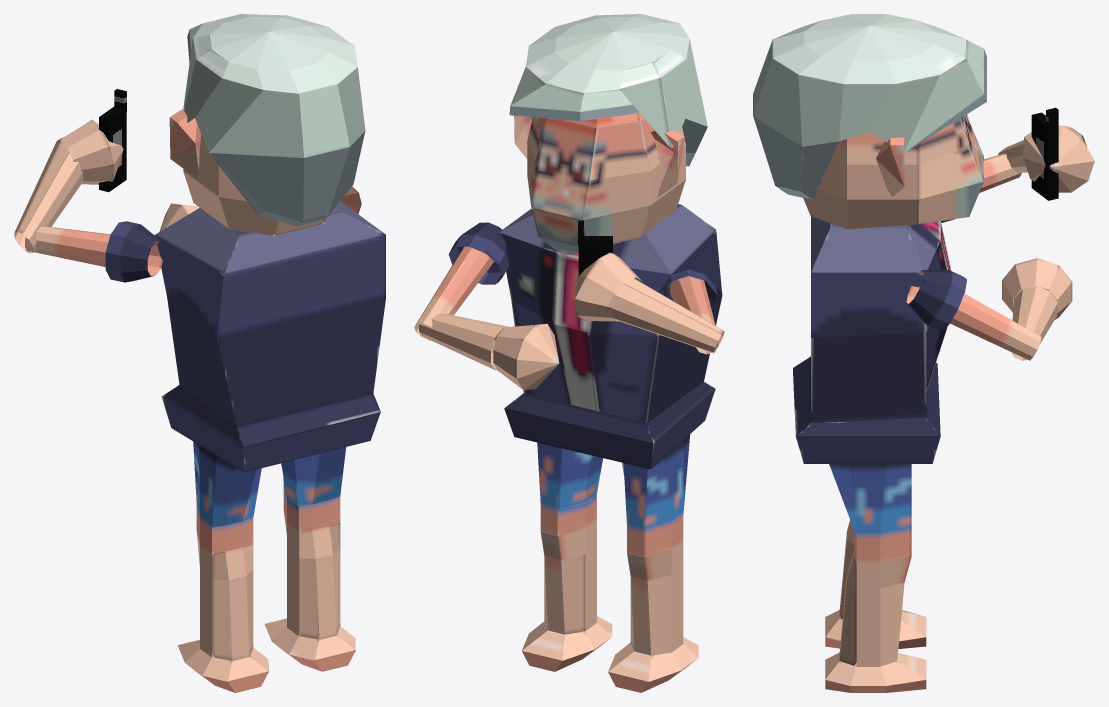
The model's file is prontocutesnei.fbx.
3 renders of one model, left to right at view 1: azimuth 30°, elevation 25°; view 2: azimuth 150°, elevation 25°; view 3: azimuth 270°, elevation 25°, orthographic.
Visible parts, largest first — view 1: Body, Hair, Leg, Leg_1, Arm, Skull, Arm_selection, Arm_selection_selection, Ear1, cuboid; view 2: Body, Hair, Skull, Leg, Leg_1, Arm_1, Arm_selection, Arm_selection_2, Arm_selection_selection, Arm_selection_1, Arm, Ear1 (+2 smaller); view 3: Body, Hair, Leg_1, Skull, Arm_1, Arm_selection_selection, Arm_selection_2, Leg, Arm_selection_1, cuboid, Ear1_1, Arm (+1 smaller).
Boxes of the visible parts, box(x1,y1,x2,y2) form: Body: box(154, 201, 385, 472); Hair: box(183, 14, 365, 226); Leg: box(177, 441, 268, 692); Leg_1: box(264, 447, 355, 671); Arm: box(25, 221, 162, 282); Skull: box(183, 49, 326, 235); Arm_selection: box(14, 137, 83, 252); Arm_selection_selection: box(56, 119, 123, 184); Ear1: box(169, 108, 200, 177); cuboid: box(99, 106, 126, 192); Body: box(500, 204, 722, 469); Hair: box(509, 14, 707, 166); Skull: box(527, 62, 685, 255); Leg: box(608, 434, 698, 692); Leg_1: box(522, 442, 612, 671); Arm_1: box(414, 222, 509, 340); Arm_selection: box(605, 278, 724, 353); Arm_selection_2: box(493, 323, 559, 390); Arm_selection_selection: box(574, 252, 641, 321); Arm_selection_1: box(419, 313, 509, 370); Arm: box(658, 269, 718, 354); Ear1: box(650, 129, 684, 197); Body: box(793, 216, 951, 463); Hair: box(753, 14, 986, 199); Leg_1: box(825, 464, 926, 692); Skull: box(803, 114, 983, 229); Arm_1: box(906, 270, 1041, 360); Arm_selection_selection: box(1023, 125, 1094, 192); Arm_selection_2: box(1002, 258, 1072, 319); Leg: box(825, 520, 926, 648); Arm_selection_1: box(1011, 286, 1057, 360); cuboid: box(1031, 112, 1058, 200); Ear1_1: box(876, 137, 904, 196); Arm: box(941, 153, 1021, 222).
Bounding box in the file's own units: 38.17 × 75.94 × 37.02.
Materials: 2 (2 with a texture image).
